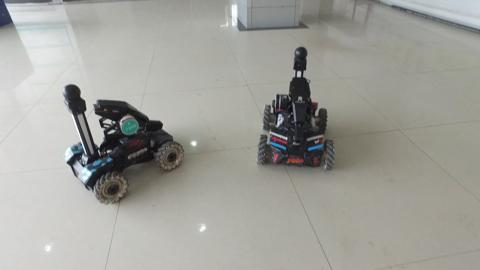chariot: (52, 83, 187, 204), (252, 46, 338, 175)
